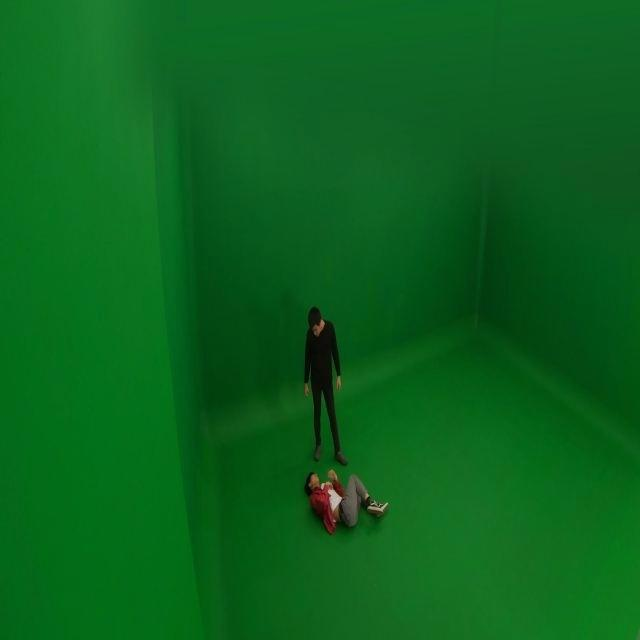fight: (300, 309, 344, 463)
non-fight: (300, 466, 388, 528)
